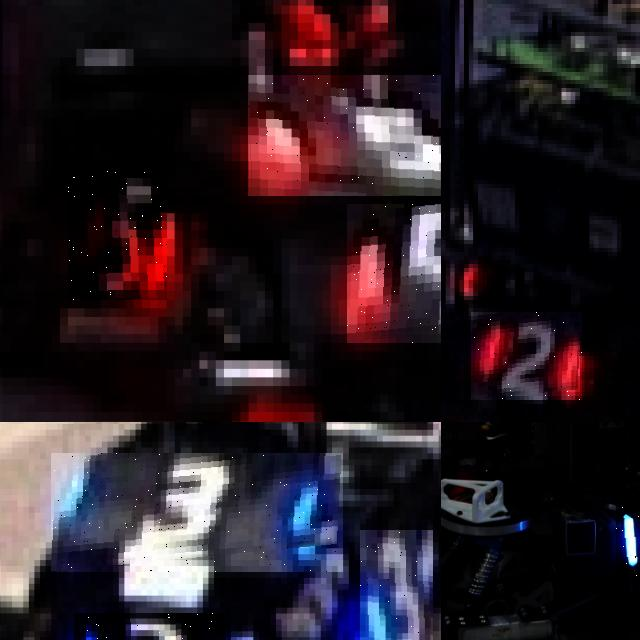B3: (52, 453, 344, 572), (360, 530, 433, 640), (73, 613, 225, 640)
R2: (471, 312, 582, 400)
R5: (248, 75, 441, 196), (347, 204, 441, 342), (68, 170, 167, 300)
